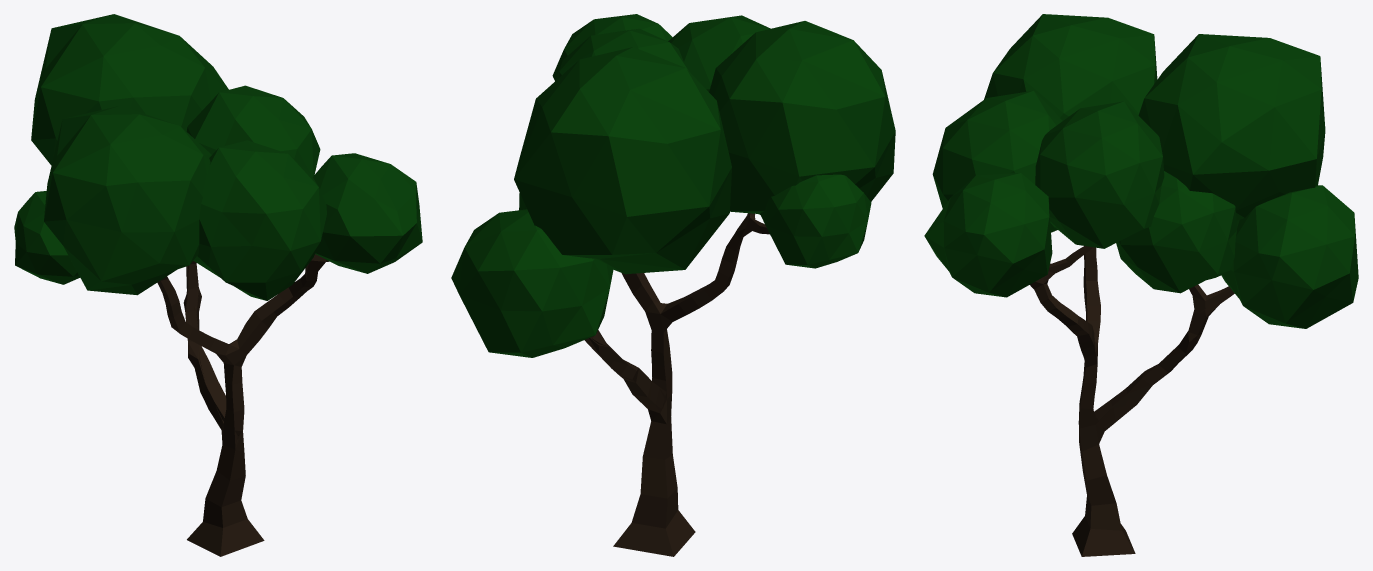
File: Tree1.fbx
3 views of the same model, side by side, from view 1: azimuth 30°, elevation 25°; view 2: azimuth 150°, elevation 25°; view 3: azimuth 270°, elevation 25° (orthographic). The views are drawn at different scales.
Visible parts, largest first — view 1: Tree.001; view 2: Tree.001; view 3: Tree.001.
Boxes of the visible parts, x1,y1,x2,y2 form: Tree.001: (14,14,422,556); Tree.001: (451,14,895,556); Tree.001: (924,14,1358,556).
Size of the model in its own units: 363 by 504 by 410.
